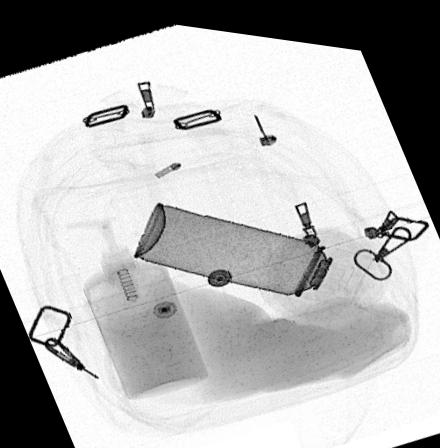Sprayer: (132, 198, 371, 297)
